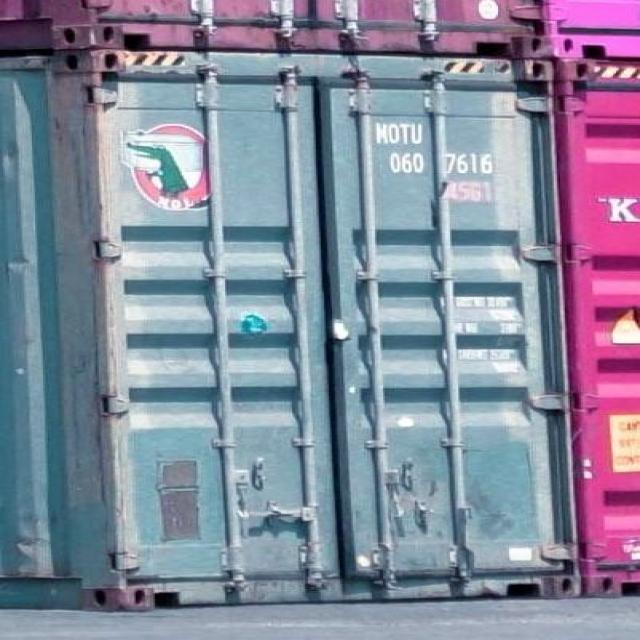ISO: (436, 179, 506, 205)
container_number: (372, 113, 504, 173)
